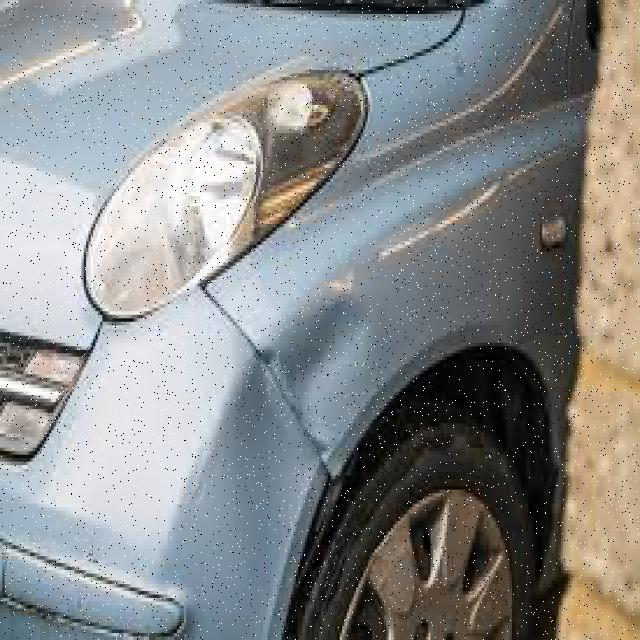fender-dent: (263, 60, 594, 504)
